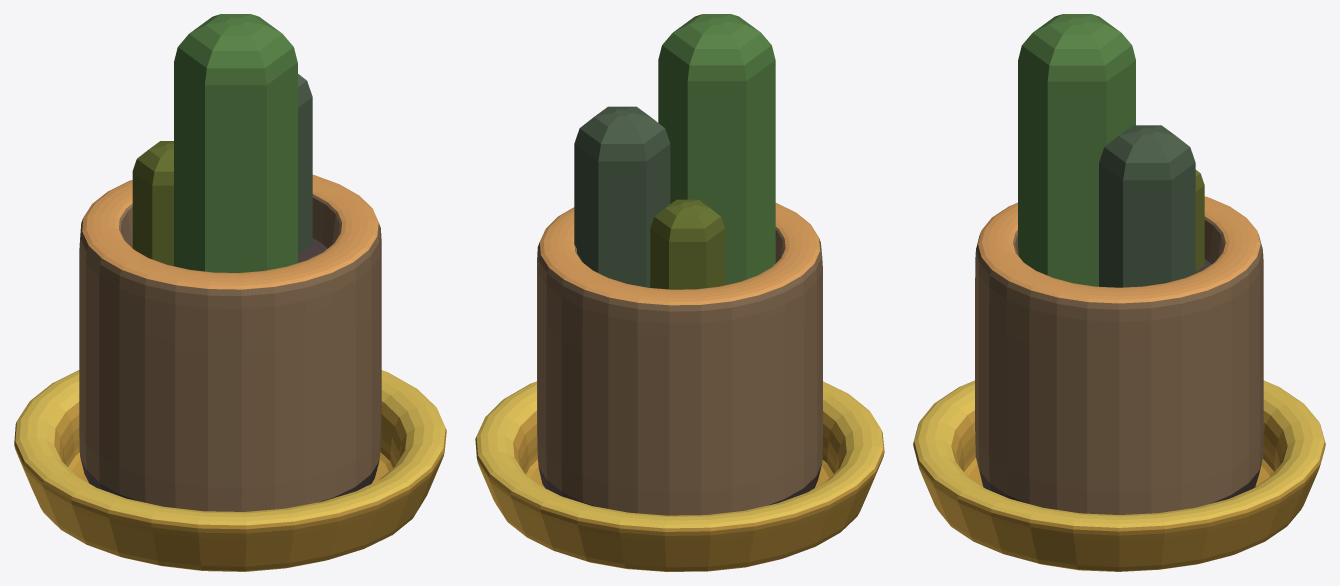
File: 3D_Plant5.fbx
3 renders of one model, left to right at view 1: azimuth 30°, elevation 25°; view 2: azimuth 150°, elevation 25°; view 3: azimuth 270°, elevation 25°, orthographic. The views are drawn at different scales.
Parts seen in each view (by area): view 1: 3D_Plant5; view 2: 3D_Plant5; view 3: 3D_Plant5.
Boxes of the visible parts, x1,y1,x2,y2 form: 3D_Plant5: (14, 14, 446, 571); 3D_Plant5: (475, 14, 884, 571); 3D_Plant5: (913, 14, 1325, 571).
Size of the model in its own units: 53.78 by 67.79 by 53.79.
